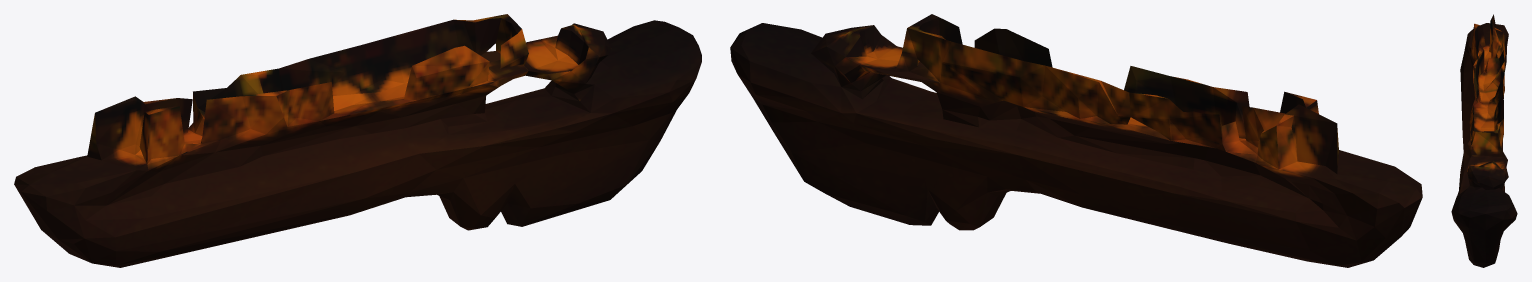
3 renders of one model, left to right at view 1: azimuth 30°, elevation 25°; view 2: azimuth 150°, elevation 25°; view 3: azimuth 270°, elevation 25°, orthographic. The views are drawn at different scales.
Visible parts, largest first — view 1: geometry_0.042_Baked; view 2: geometry_0.042_Baked; view 3: geometry_0.042_Baked.
Boxes of the visible parts, left/top/right/bottom form: geometry_0.042_Baked: left=14, top=14, right=701, bottom=267; geometry_0.042_Baked: left=730, top=14, right=1422, bottom=267; geometry_0.042_Baked: left=1451, top=14, right=1517, bottom=267.
Size of the model in its own units: 34.08 by 10.44 by 5.1.
